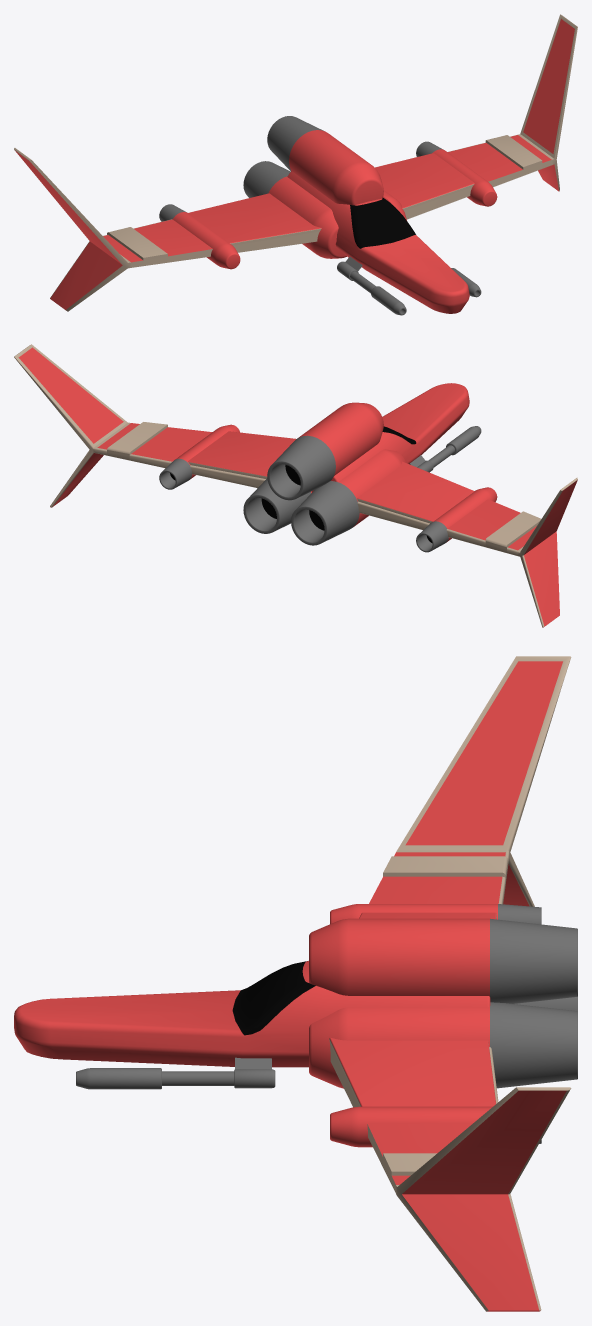
Rendered from spaceship3.fbx.
The picture shows the model from 3 angles, top to bottom: view 1: azimuth 30°, elevation 25°; view 2: azimuth 150°, elevation 25°; view 3: azimuth 270°, elevation 25°; orthographic projection. The views are drawn at different scales.
Parts seen in each view (by area): view 1: body, ThrusterTop, ThrusterRight, thrusterFarRight, guns, thrusterFarLeft; view 2: body, ThrusterTop, ThrusterRight, ThrusterLeft, thrusterFarRight, thrusterFarLeft, guns; view 3: body, ThrusterTop, ThrusterLeft, guns, thrusterFarLeft, thrusterFarRight.
Part boxes in pixels (left/top/right/bottom): body: left=14, top=14, right=577, bottom=313; ThrusterTop: left=267, top=116, right=383, bottom=205; ThrusterRight: left=243, top=161, right=346, bottom=258; thrusterFarRight: left=159, top=204, right=240, bottom=269; guns: left=337, top=256, right=481, bottom=315; thrusterFarLeft: left=416, top=141, right=497, bottom=206; body: left=14, top=344, right=577, bottom=627; ThrusterTop: left=267, top=402, right=383, bottom=500; ThrusterRight: left=291, top=449, right=406, bottom=545; ThrusterLeft: left=243, top=478, right=311, bottom=533; thrusterFarRight: left=416, top=487, right=497, bottom=552; thrusterFarLeft: left=159, top=424, right=239, bottom=489; guns: left=409, top=426, right=481, bottom=472; body: left=14, top=656, right=571, bottom=1311; ThrusterTop: left=309, top=918, right=577, bottom=1003; ThrusterLeft: left=309, top=1002, right=577, bottom=1088; guns: left=76, top=1057, right=275, bottom=1089; thrusterFarLeft: left=330, top=1106, right=541, bottom=1147; thrusterFarRight: left=330, top=904, right=541, bottom=924.
Size of the model in its own units: 23.86 by 13.12 by 6.31.
